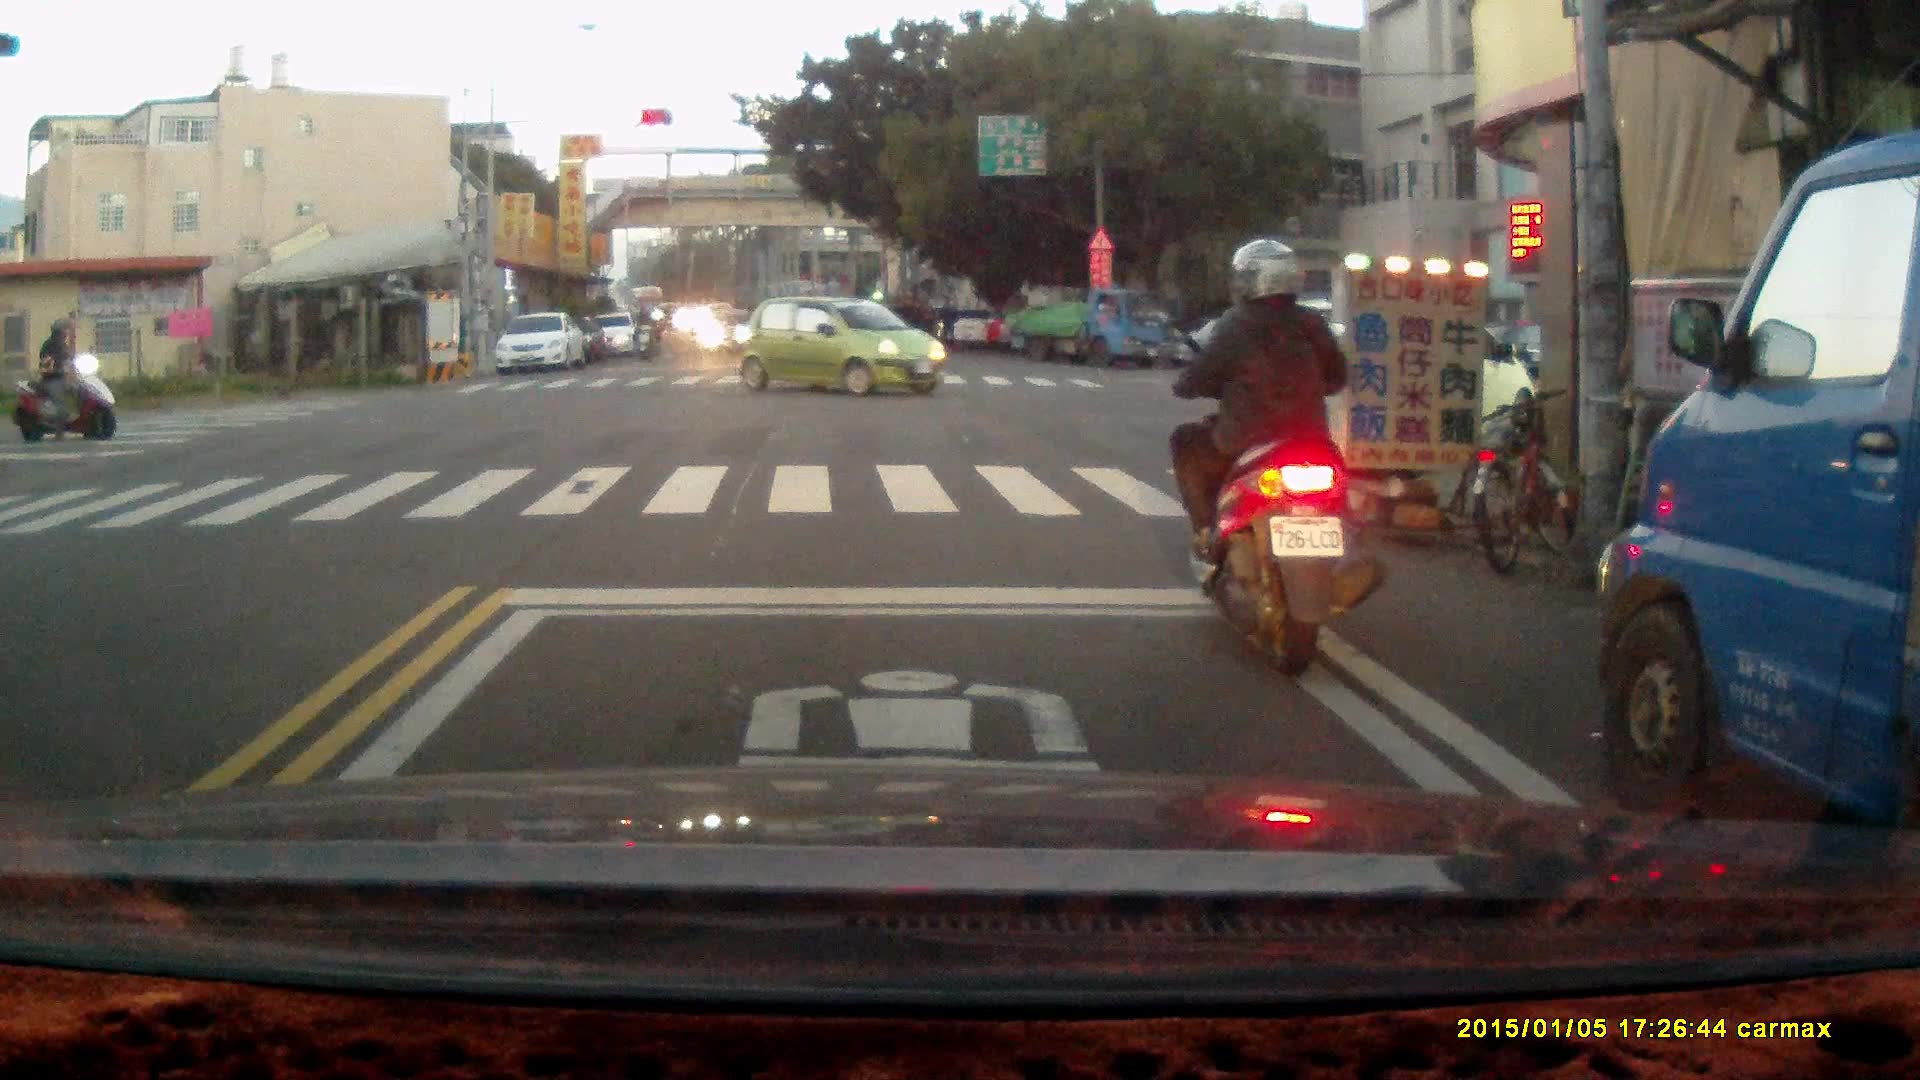rider: (1159, 232, 1399, 683), (10, 318, 119, 440), (632, 306, 659, 363)
vehicle: (1600, 132, 1920, 917), (1224, 295, 1531, 462), (739, 293, 944, 400), (1002, 284, 1178, 367), (494, 313, 587, 377), (592, 311, 642, 360)
